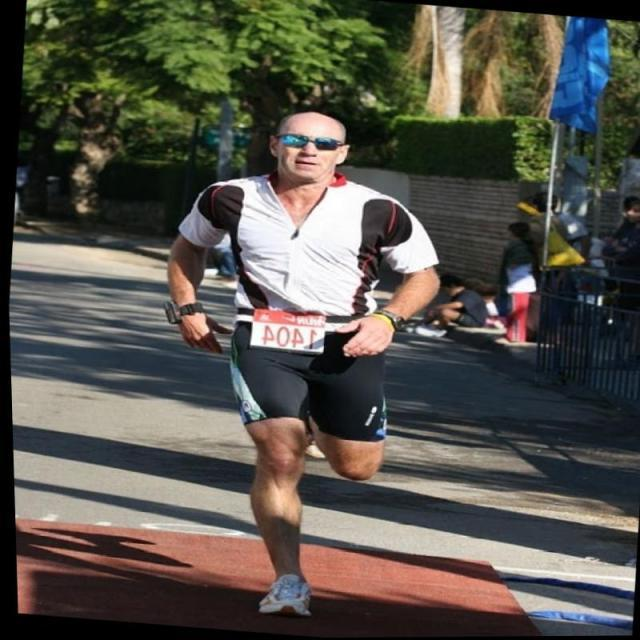dorsal: (238, 304, 333, 361)
